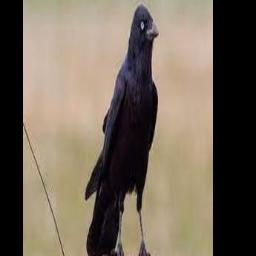Crow: (85, 4, 160, 256)
